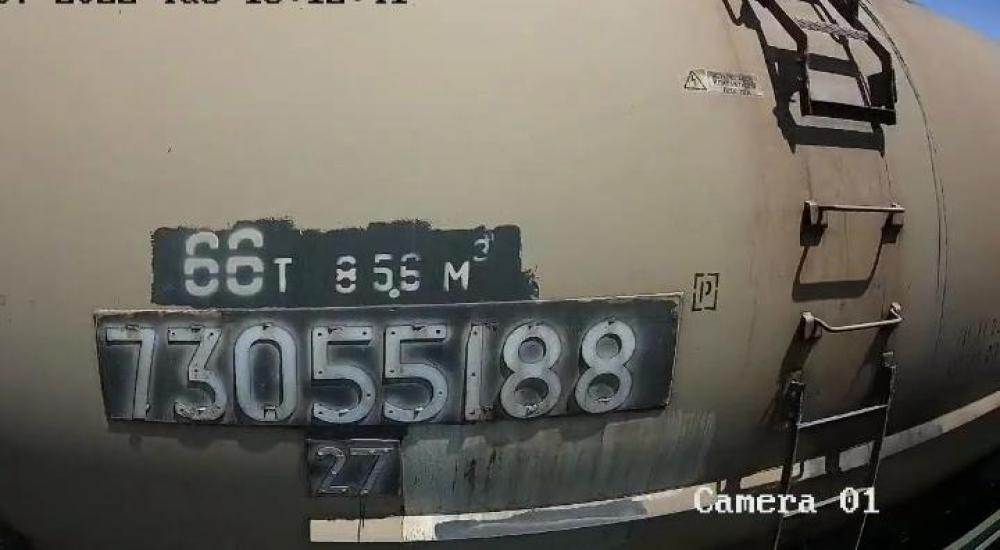Wagon-number: (102, 306, 648, 426)
